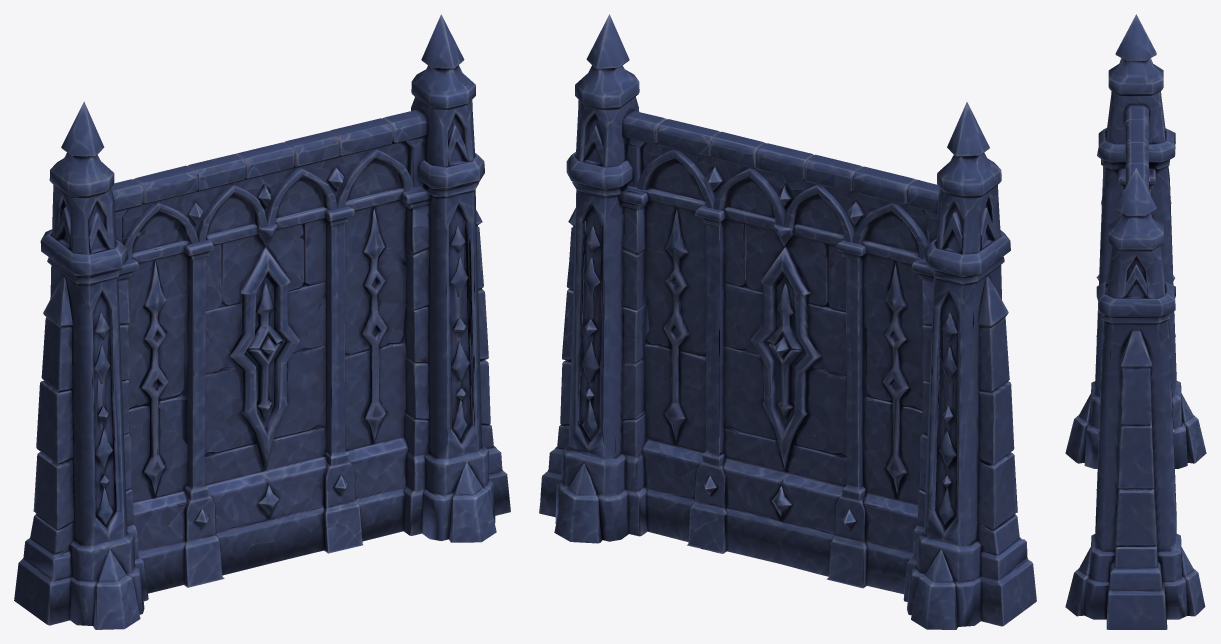
File: muro.glb
The picture shows the model from 3 angles, left to right: view 1: azimuth 30°, elevation 25°; view 2: azimuth 150°, elevation 25°; view 3: azimuth 270°, elevation 25°; orthographic projection. The views are drawn at different scales.
Visible parts, largest first — view 1: geometry_0; view 2: geometry_0; view 3: geometry_0.
Part boxes in pixels (box(x1,y1,x2,y2)): geometry_0: box(14, 14, 510, 629); geometry_0: box(539, 14, 1036, 629); geometry_0: box(1065, 14, 1206, 629).
Bounding box in the file's own units: 0.9292 × 0.9546 × 0.2778.
1 material, 1 textured.
